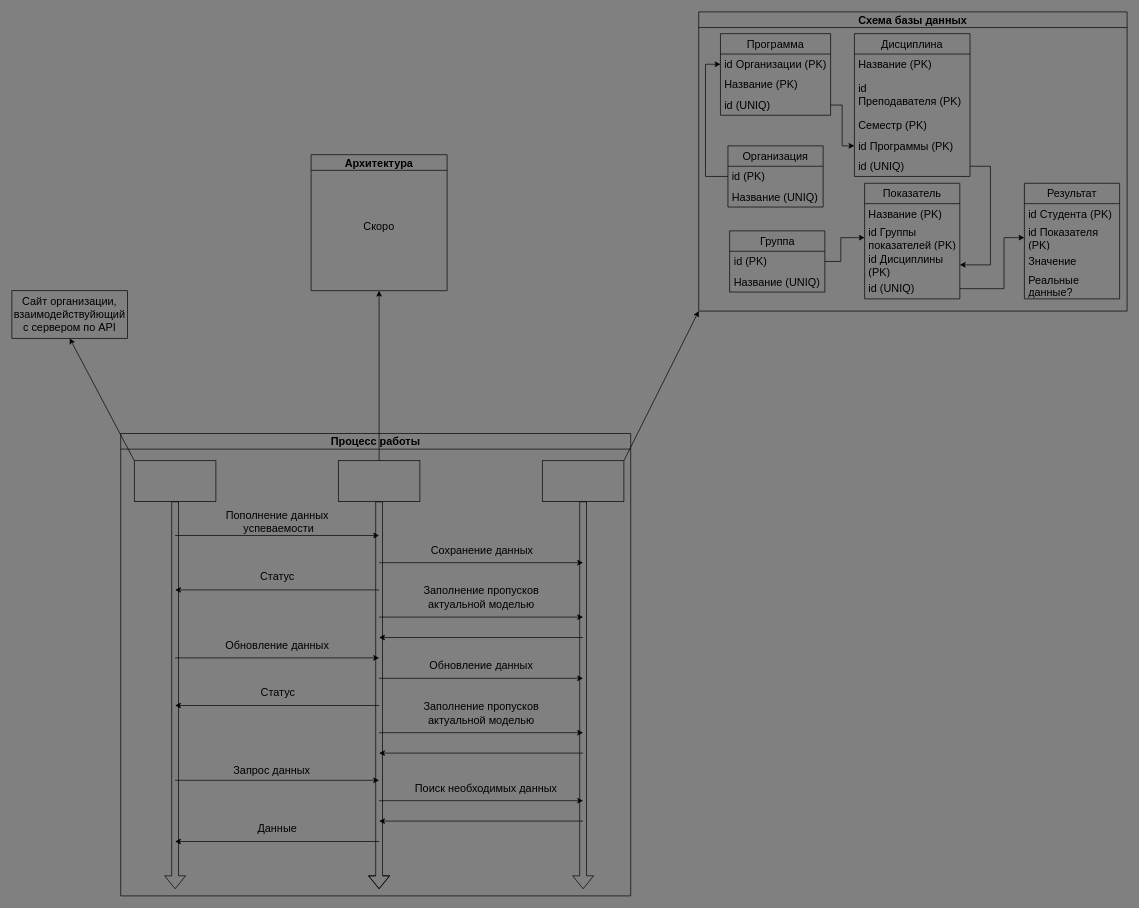
Some shapes in this 1139 by 908 pixel diagram are drawn without their labels. Each missing label, with the centre of its shape:
База данных: the point at 583,481
Клиент: the point at 175,481
Сервер: the point at 379,481
